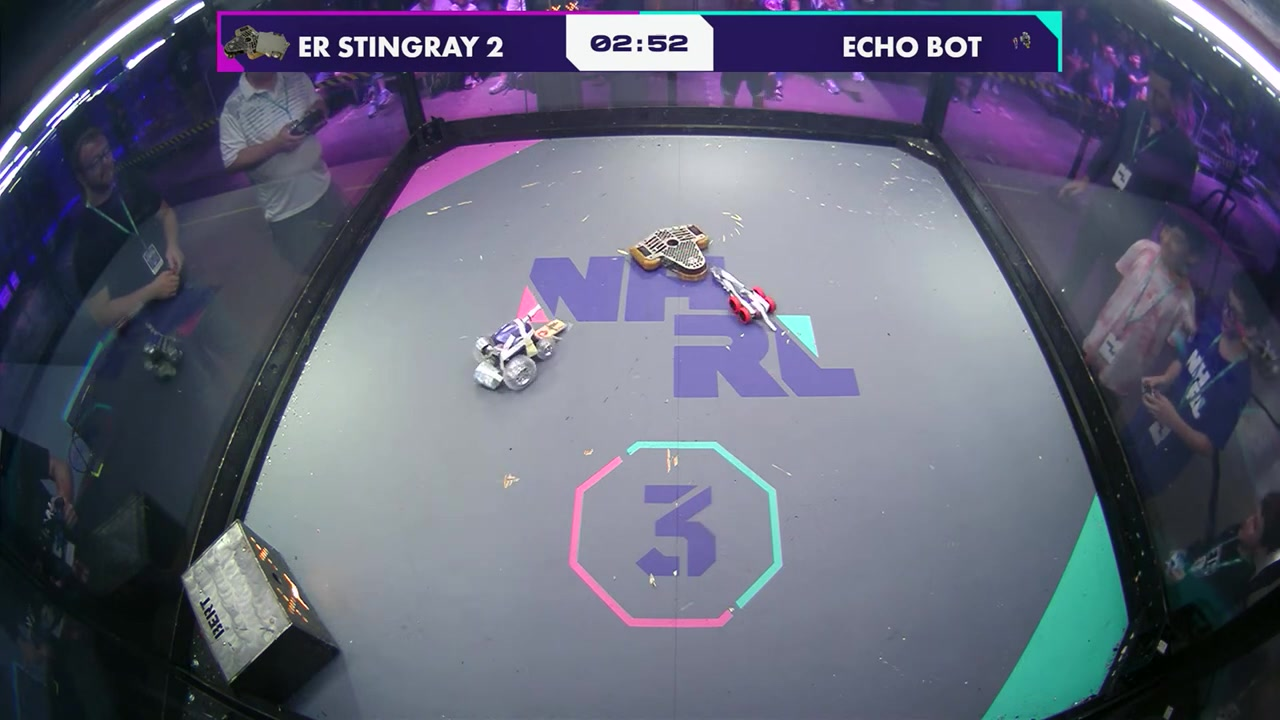combatbot: (475, 306, 571, 390), (705, 265, 783, 332), (629, 223, 711, 286)
housebot: (178, 523, 337, 706)
